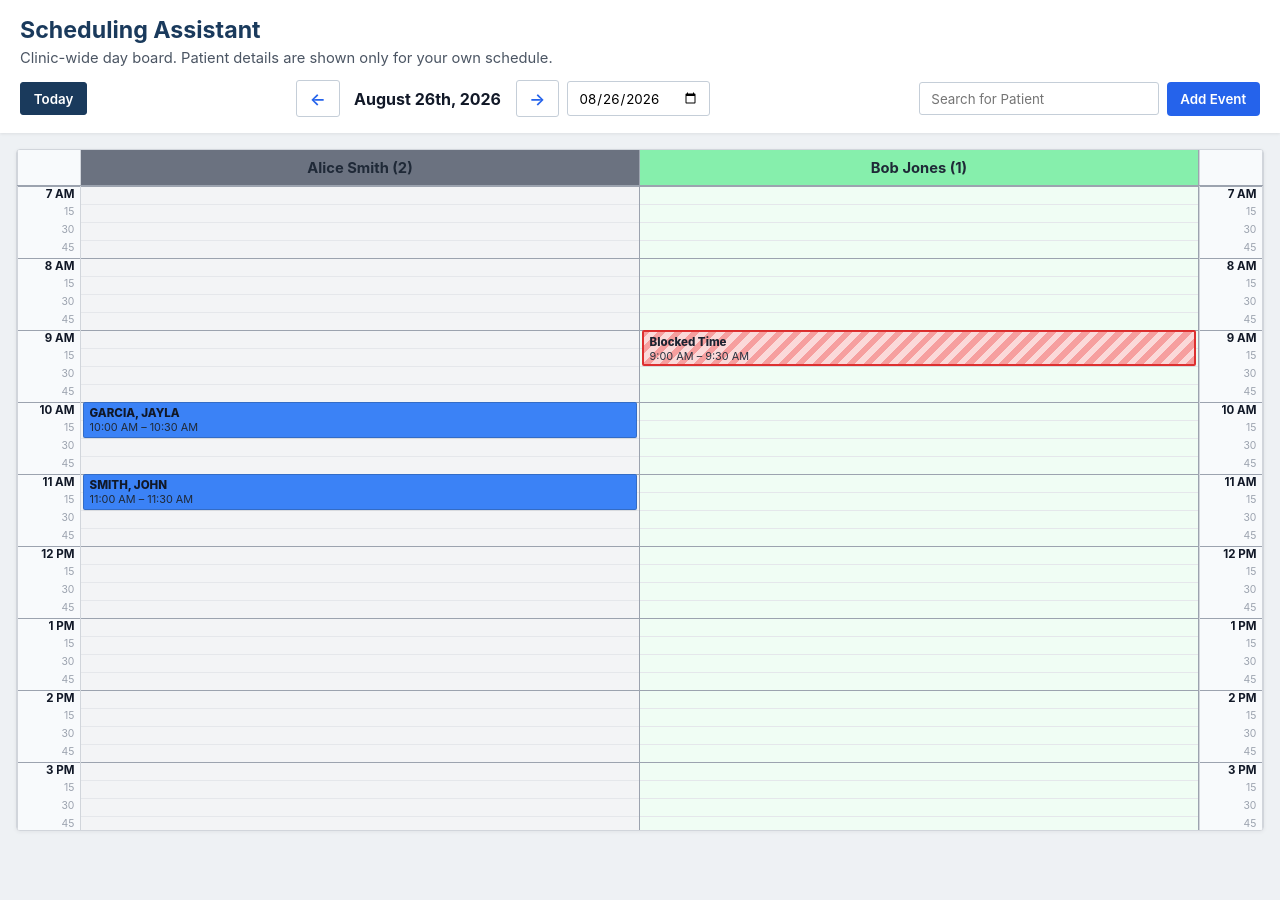
Test: ProviderDashboard.vue › keeps other-provider availability visible while searching patients
Type "Garcia" into the search field with placeholder "Search for Patient". click: (1039, 99)
box: [919,82,1158,115]
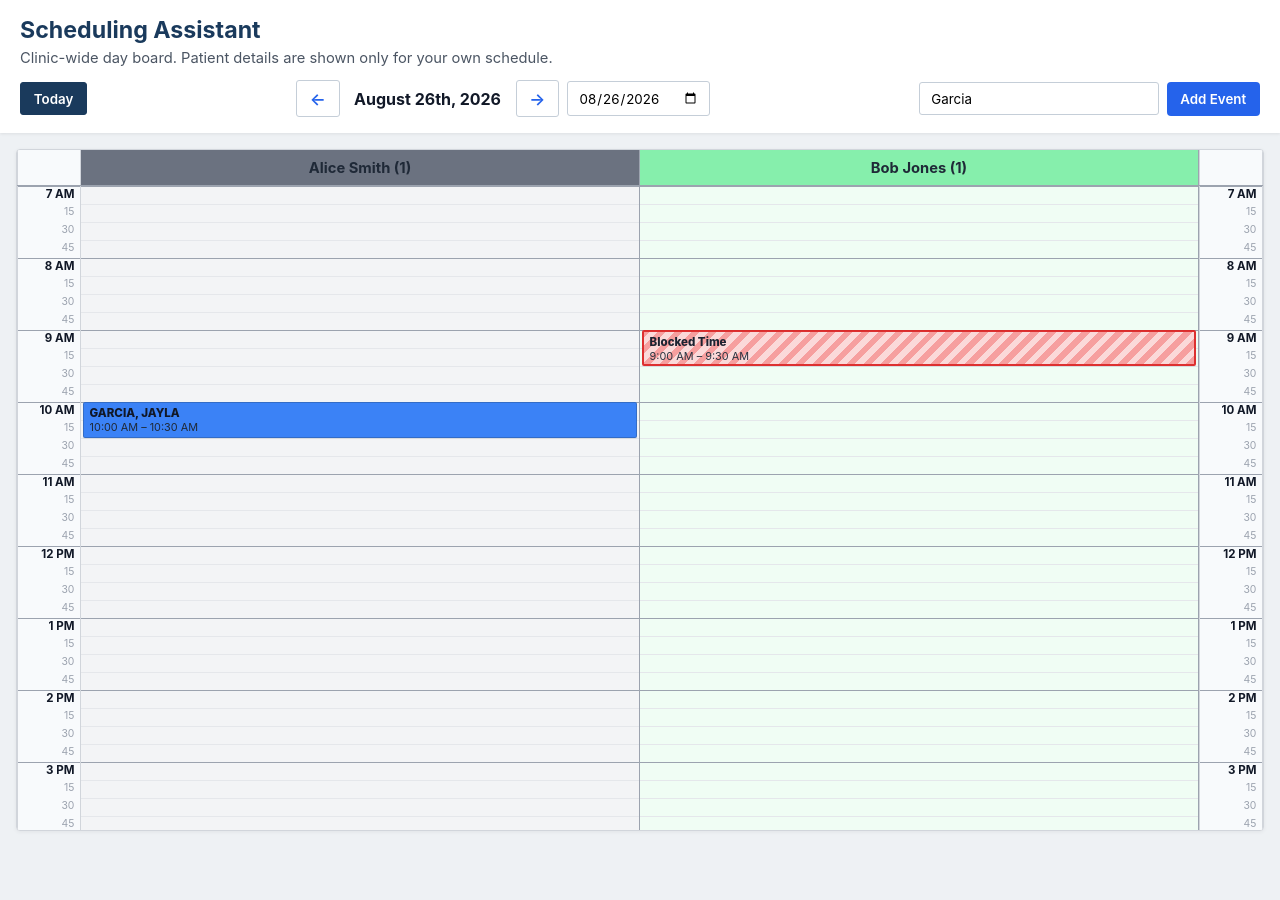
Expected: the text "GARCIA, JAYLA" is shown, [90,406,180,420]
Expected: the text "SMITH, JOHN" is gone
Expected: the text "Alice Smith (1)" is shown, [81,150,640,185]
